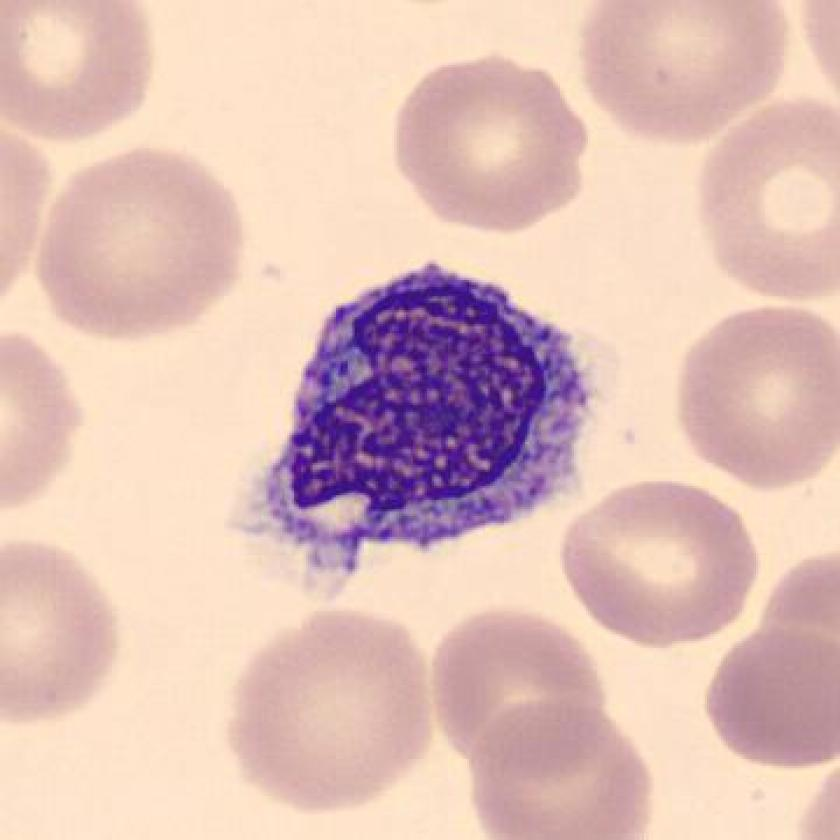monocyte: (213, 251, 617, 610)
